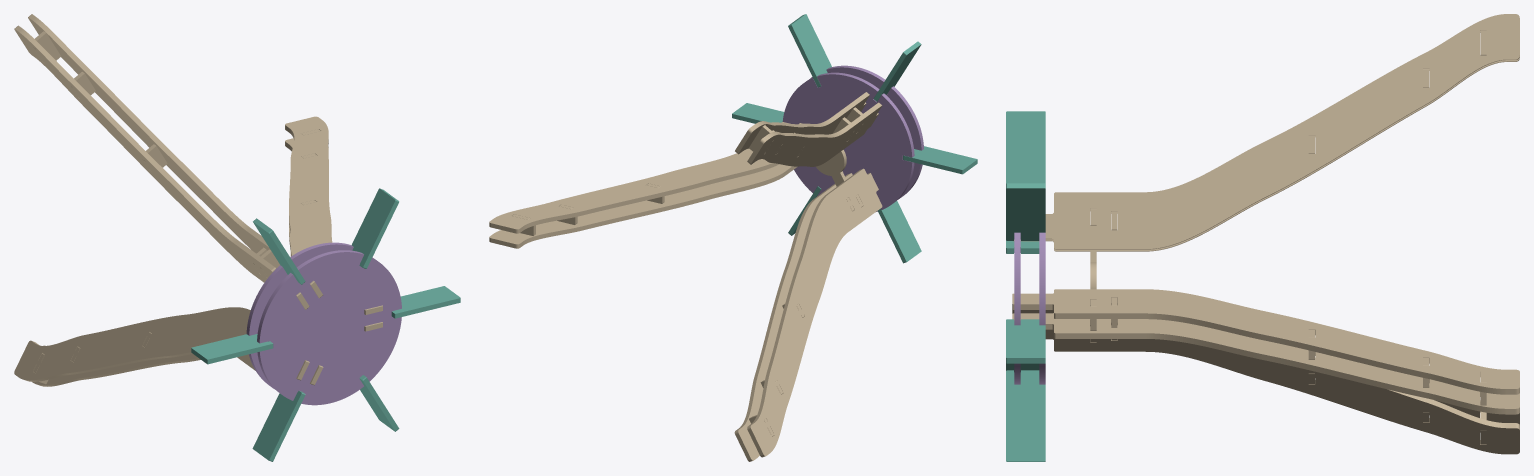
The model's file is A-baseline-27-DESIGN_ONLY.glb.
3 views of the same model, side by side, from view 1: azimuth 30°, elevation 25°; view 2: azimuth 150°, elevation 25°; view 3: azimuth 270°, elevation 25° (orthographic). The views are drawn at different scales.
Visible parts, largest first — view 1: P04U, L3_P01_1, L1_P01_2, L2_P01_2, L2_P01_1, P04L, P05_2, P05_5, P05_4, L3_P01_2, P05_1, P05_3 (+1 smaller); view 2: L3_P01_1, P04L, L1_P01_2, L1_P01_1, L2_P01_2, L3_P01_2, P04U, L2_P01_1, P05_2, P05_5, P05_4, P03 (+2 smaller); view 3: L2_P01_1, L1_P01_2, L3_P01_2, L1_P01_1, P05_6, P05_3, P05_2, P05_1, L2_P01_2, P04L, P04U, L3_P01_1 (+1 smaller).
Part boxes in pixels (x1,y1,x2,y2): P04U: (257, 250, 401, 405); L3_P01_1: (14, 307, 309, 381); L1_P01_2: (285, 116, 382, 314); L2_P01_2: (14, 25, 309, 309); L2_P01_1: (28, 14, 322, 298); P04L: (246, 242, 353, 389); P05_2: (351, 188, 399, 268); P05_5: (252, 391, 305, 461); P05_4: (191, 334, 273, 364); L3_P01_2: (32, 345, 323, 386); P05_1: (391, 286, 460, 318); P05_3: (253, 218, 305, 284); L3_P01_1: (747, 168, 882, 457); P04L: (782, 72, 914, 211); L1_P01_2: (489, 122, 803, 233); L1_P01_1: (489, 164, 797, 248); L2_P01_2: (747, 102, 882, 166); L3_P01_2: (734, 173, 852, 461); P04U: (810, 65, 923, 199); L2_P01_1: (735, 92, 869, 154); P05_2: (788, 14, 831, 87); P05_5: (878, 201, 921, 263); P05_4: (903, 146, 977, 174); P03: (816, 107, 863, 207); L2_P01_1: (1045, 14, 1519, 249); L1_P01_2: (1012, 289, 1519, 394); L3_P01_2: (1045, 323, 1519, 454); L1_P01_1: (1012, 313, 1519, 414); P05_6: (1006, 370, 1045, 461); P05_3: (1006, 111, 1045, 183); P05_2: (1006, 183, 1045, 240); P05_1: (1006, 319, 1045, 363); L2_P01_2: (1013, 31, 1519, 251); P04L: (1039, 232, 1045, 384); P04U: (1014, 232, 1020, 384); L3_P01_1: (1012, 303, 1519, 432).
Bounding box in the file's own units: 0.431 × 0.4673 × 0.494.
